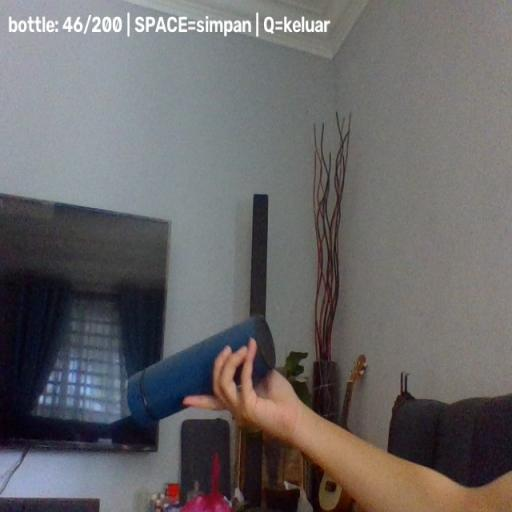Bottle: (126, 314, 277, 428)
